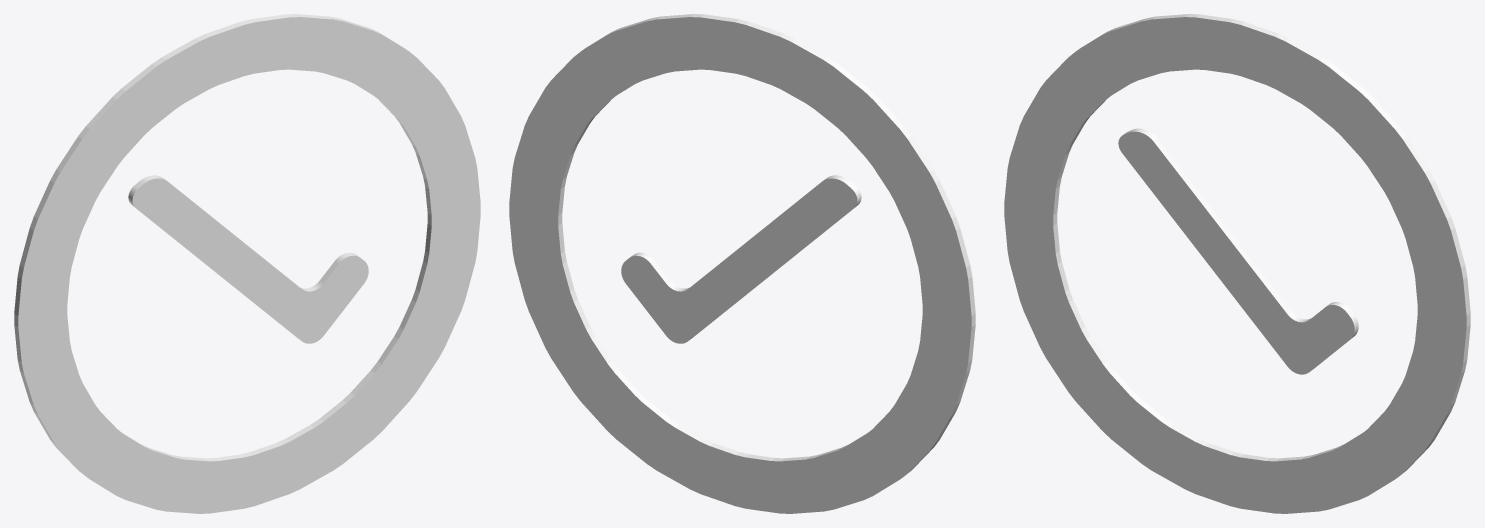
Rendered from Checkmark_Icon.fbx.
The picture shows the model from 3 angles, left to right: view 1: azimuth 30°, elevation 25°; view 2: azimuth 150°, elevation 25°; view 3: azimuth 330°, elevation 25°; orthographic projection.
Visible parts, largest first — view 1: Checkmark_3D_Icon_01; view 2: Checkmark_3D_Icon_01; view 3: Checkmark_3D_Icon_01.
Boxes of the visible parts, left/top/right/bottom form: Checkmark_3D_Icon_01: left=14, top=14, right=480, bottom=513; Checkmark_3D_Icon_01: left=509, top=14, right=975, bottom=513; Checkmark_3D_Icon_01: left=1004, top=14, right=1470, bottom=513.
Size of the model in its own units: 122 by 122 by 1.9.
